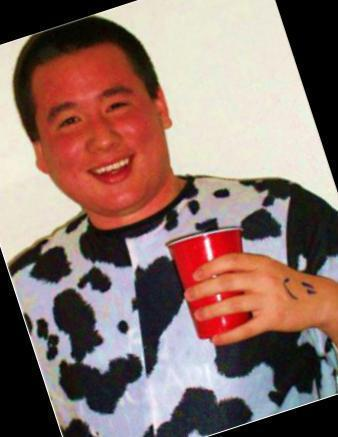Drunk: (35, 60, 159, 205)
